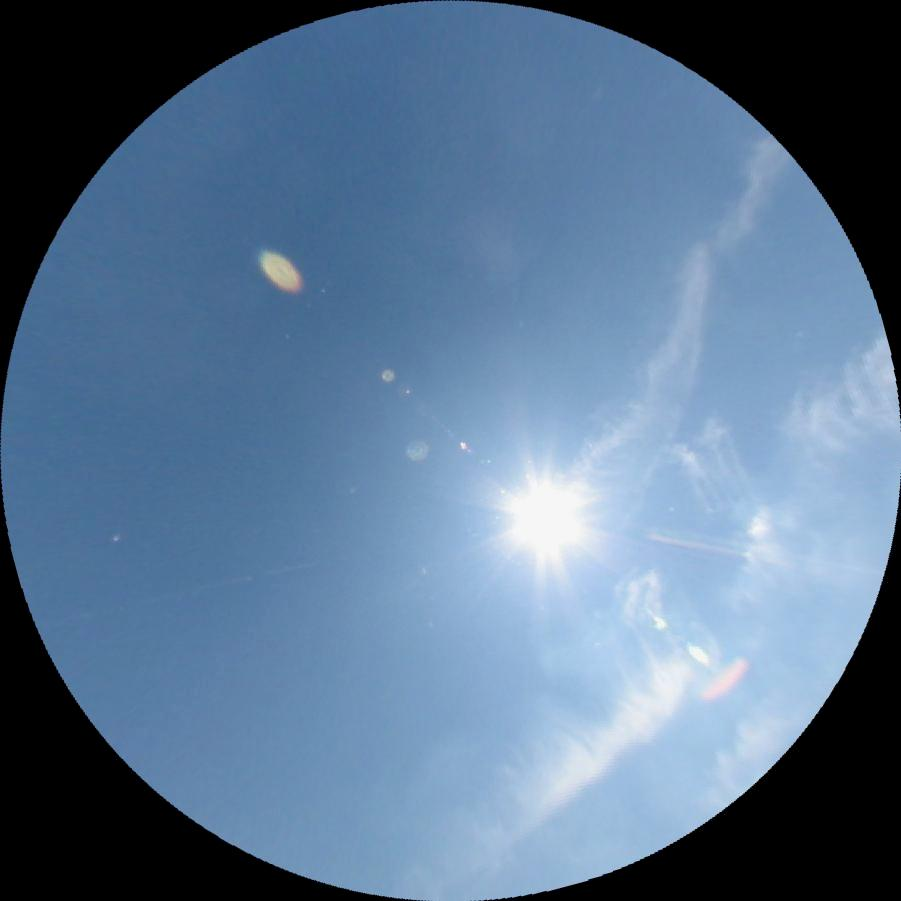contrail veryold: (537, 130, 829, 570)
parasite: (641, 527, 748, 562)
sun: (508, 481, 581, 558)
